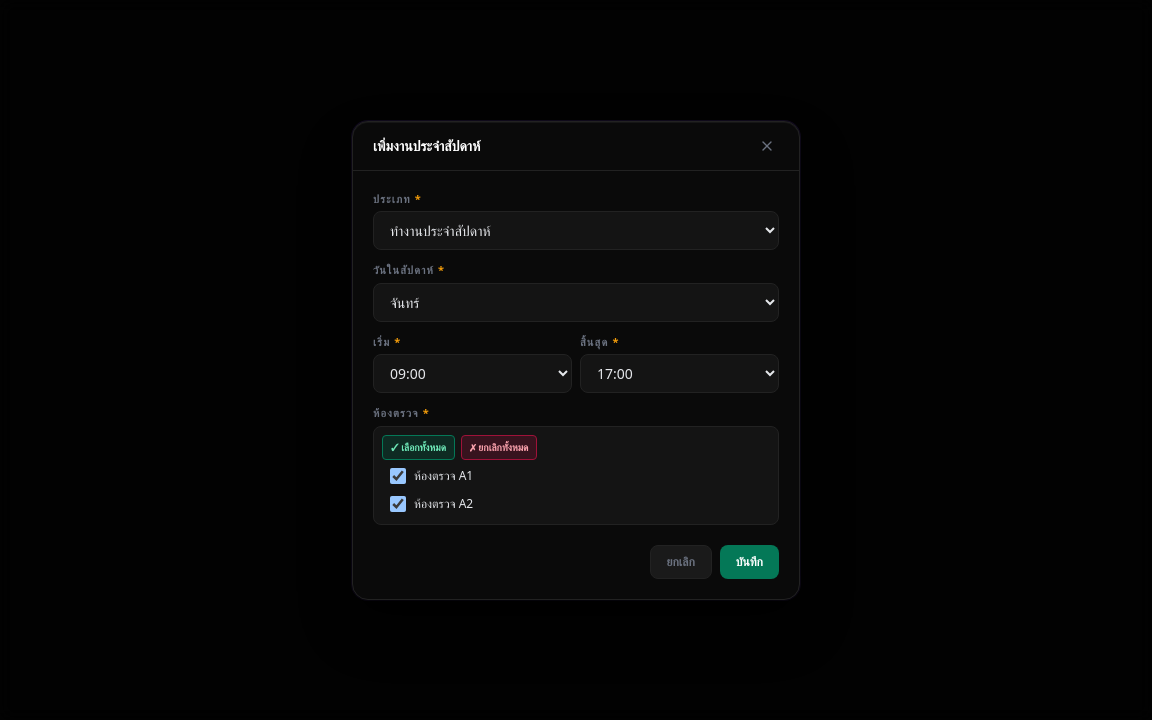
Test: V56/BS-15 — F4: clear-all button → no rooms → submit disabled › F4.1: clicking clear-all unchecks all rooms
Click the button with test id "schedule-form-rooms-clear-all" at (499, 447), box [461,434,537,460]
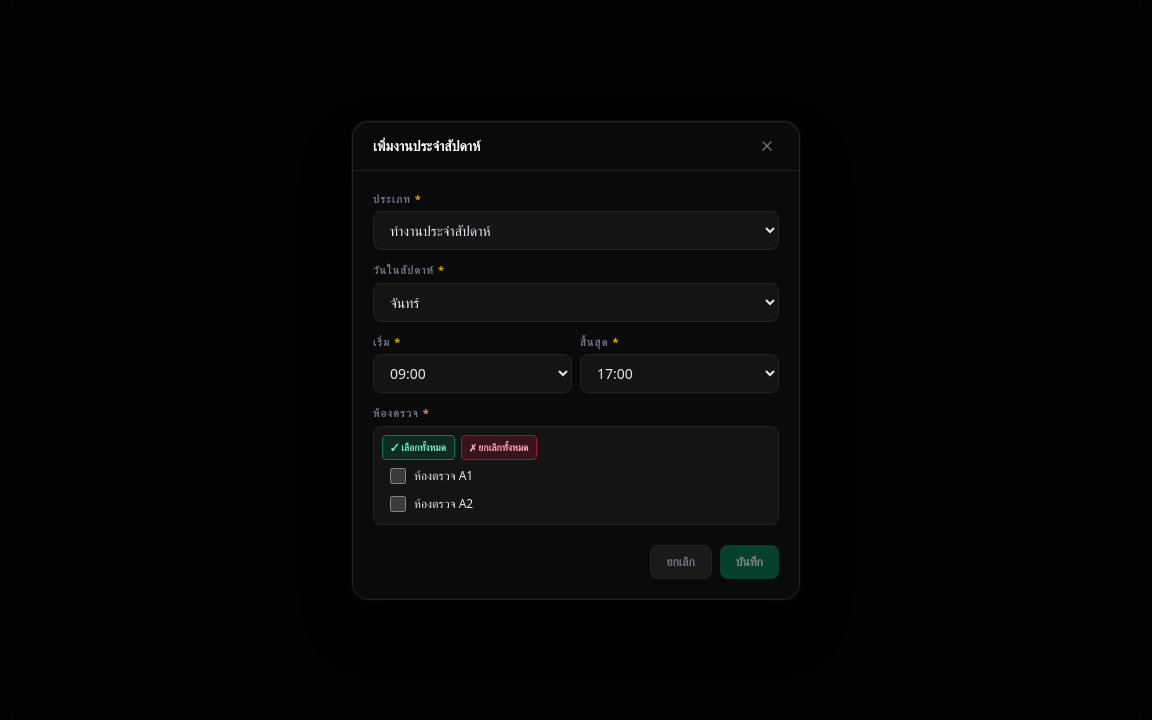
Result: the checkbox labelled "ห้องตรวจ A1" is not checked at [390,468,406,484]
Result: the checkbox labelled "ห้องตรวจ A2" is not checked at [390,496,406,512]
